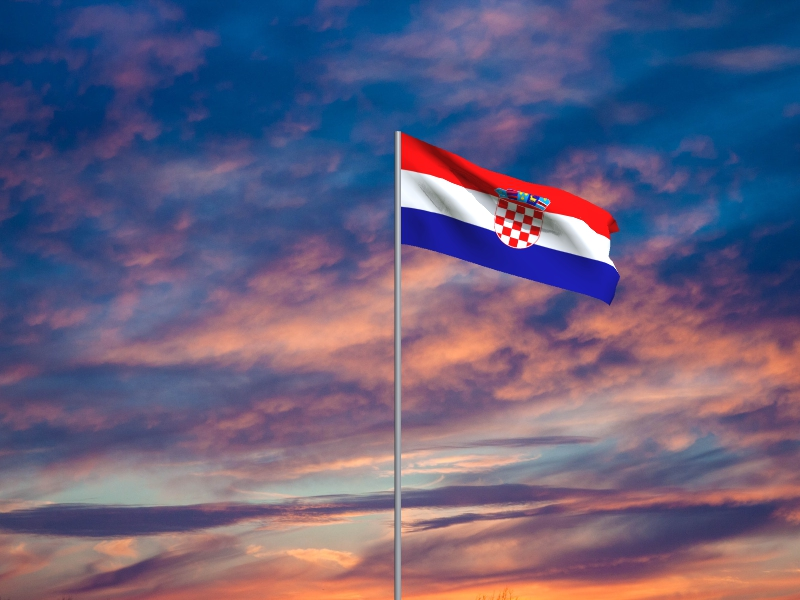hr: (402, 133, 622, 307)
